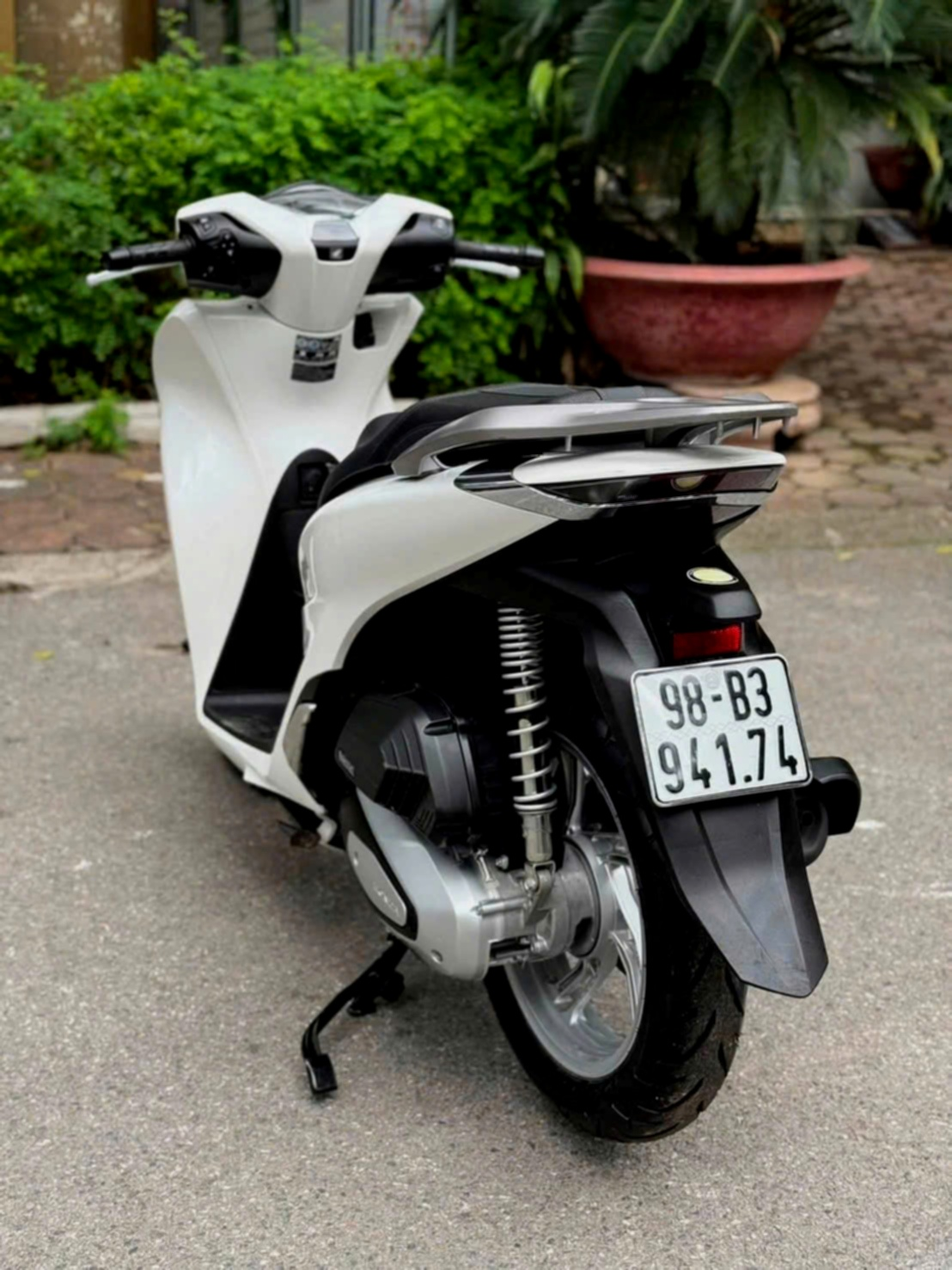Bien-so: (631, 625, 819, 800)
